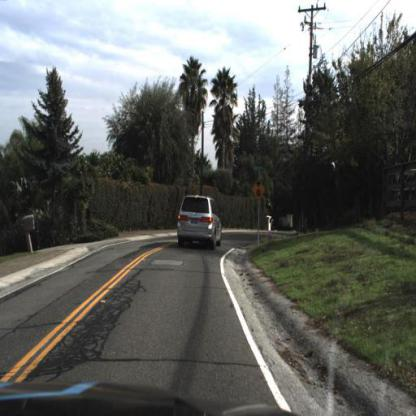car: (174, 190, 225, 255)
